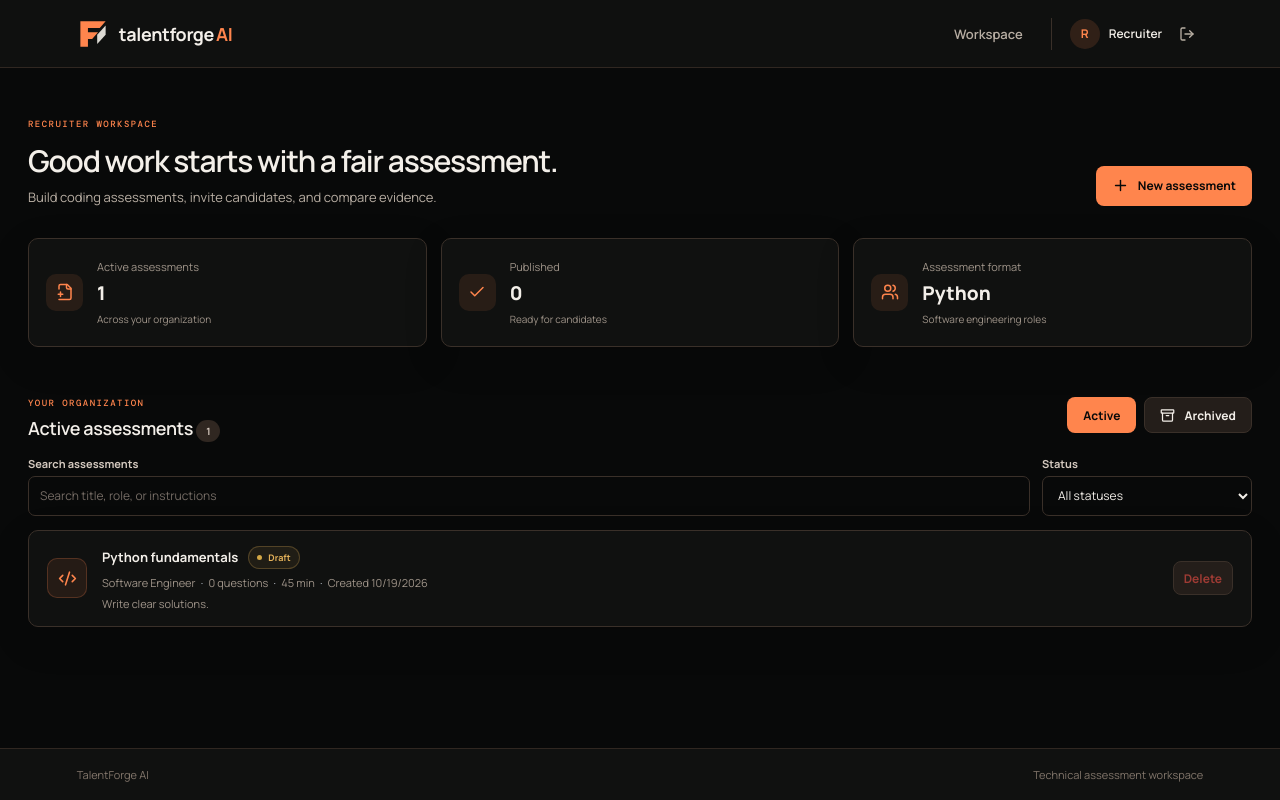
Test case: recruiter assessment CRUD › confirms deletion, removes only on success, and preserves the row on failure
Expected: the heading "Python fundamentals" is shown, top-left (102, 548), bottom-right (238, 566)
Click the button "Delete" at x=1203, y=578, box top-left (1173, 561), bottom-right (1233, 595)
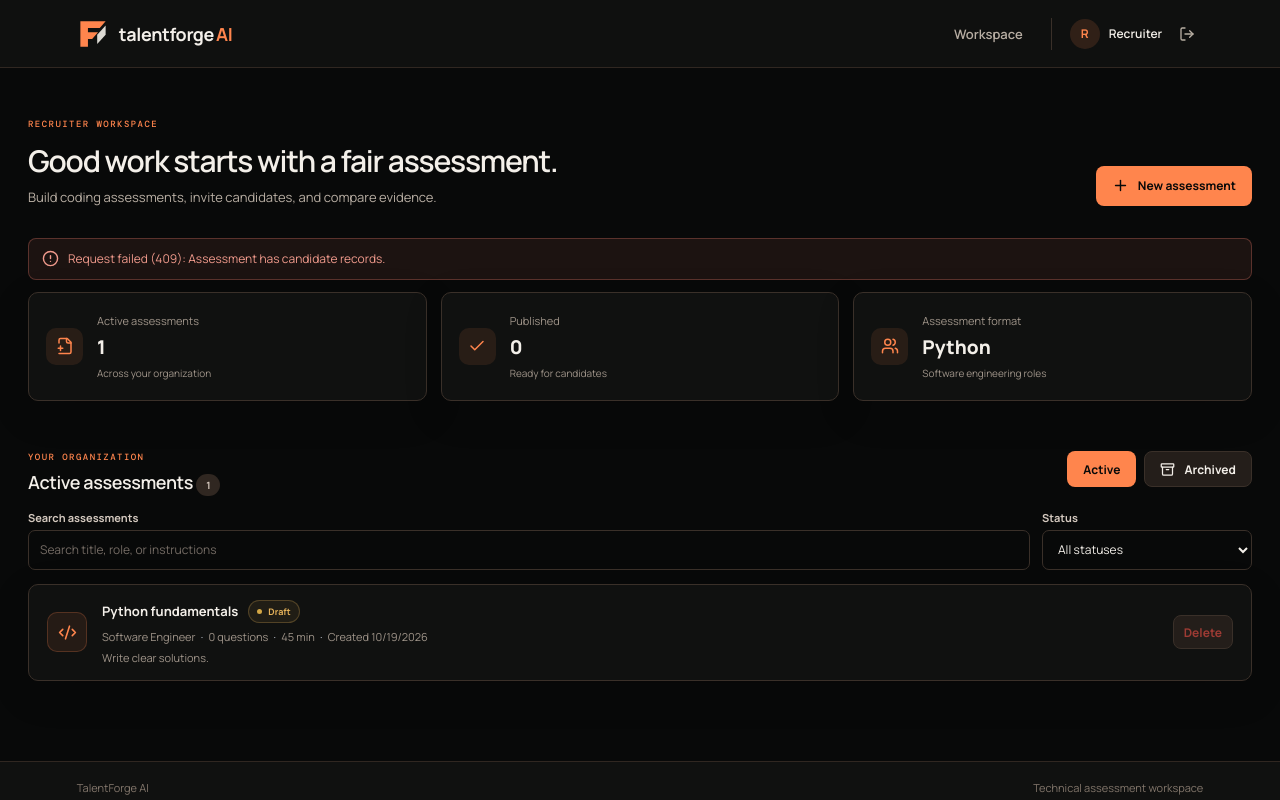
Expected: the heading "Python fundamentals" is shown, top-left (102, 602), bottom-right (238, 620)
Expected: the text "Request failed (409): Assessment has candidate records." is shown, top-left (28, 238), bottom-right (1252, 280)
Click the button "Delete" at x=1203, y=632, box top-left (1173, 615), bottom-right (1233, 649)
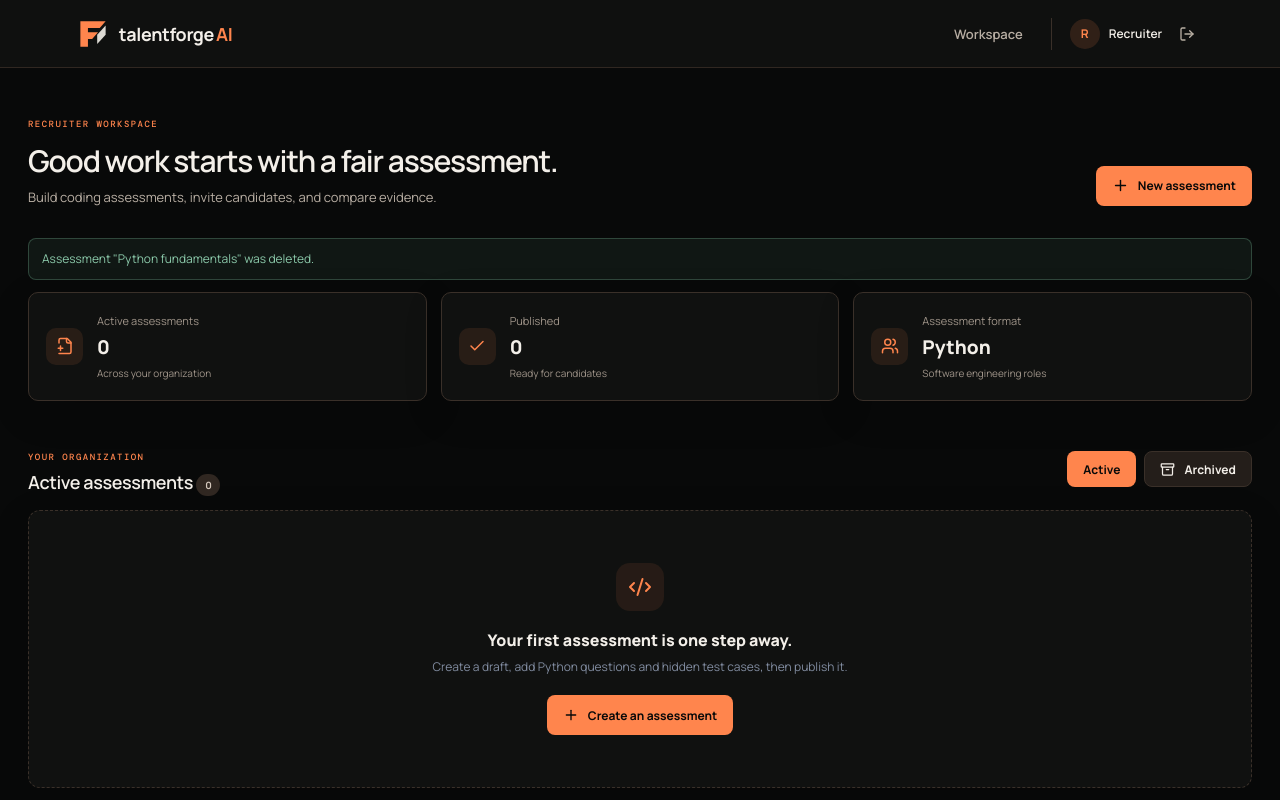
Expected: the message reads "Assessment \"Python fundamentals\" was deleted.", top-left (42, 250), bottom-right (314, 266)
